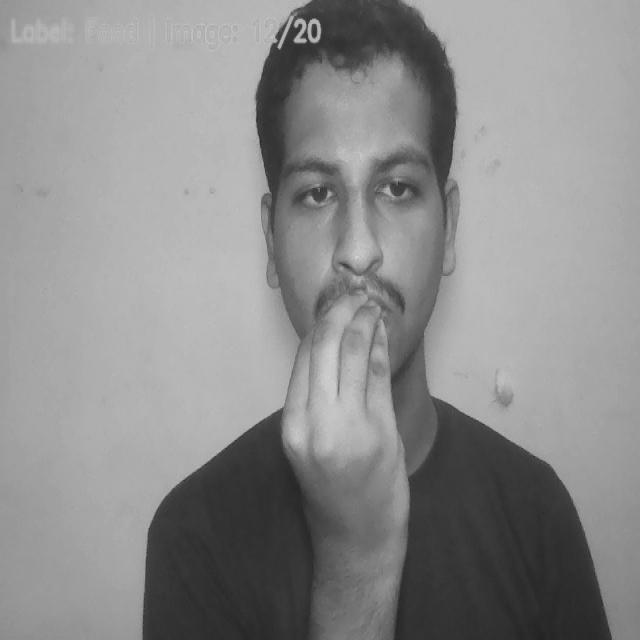Food: (278, 285, 411, 613)
